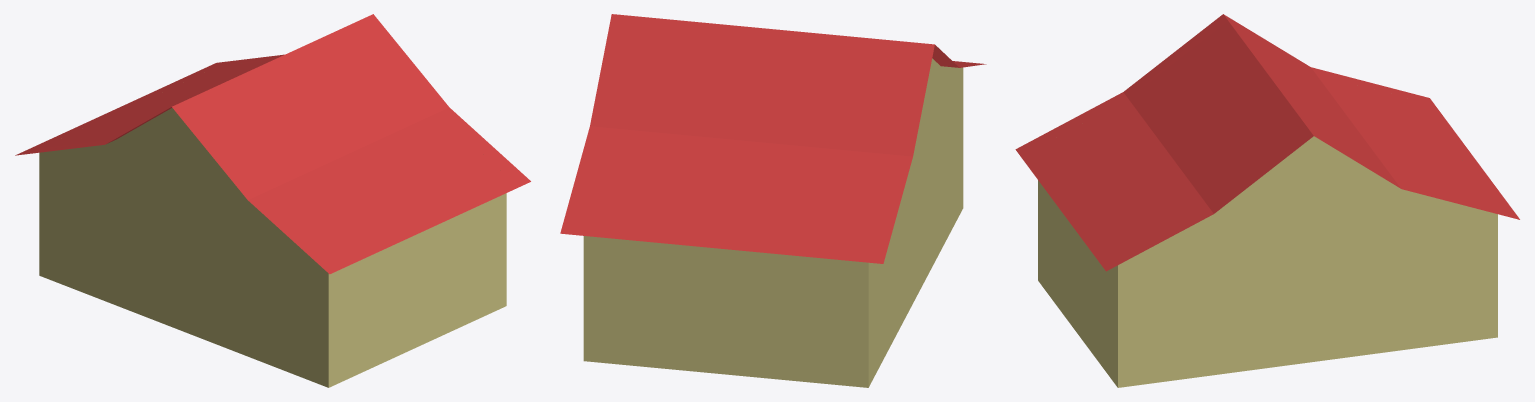
3 renders of one model, left to right at view 1: azimuth 30°, elevation 25°; view 2: azimuth 150°, elevation 25°; view 3: azimuth 270°, elevation 25°, orthographic. The views are drawn at different scales.
Size of the model in its own units: 17.52 by 21.12 by 10.79.
